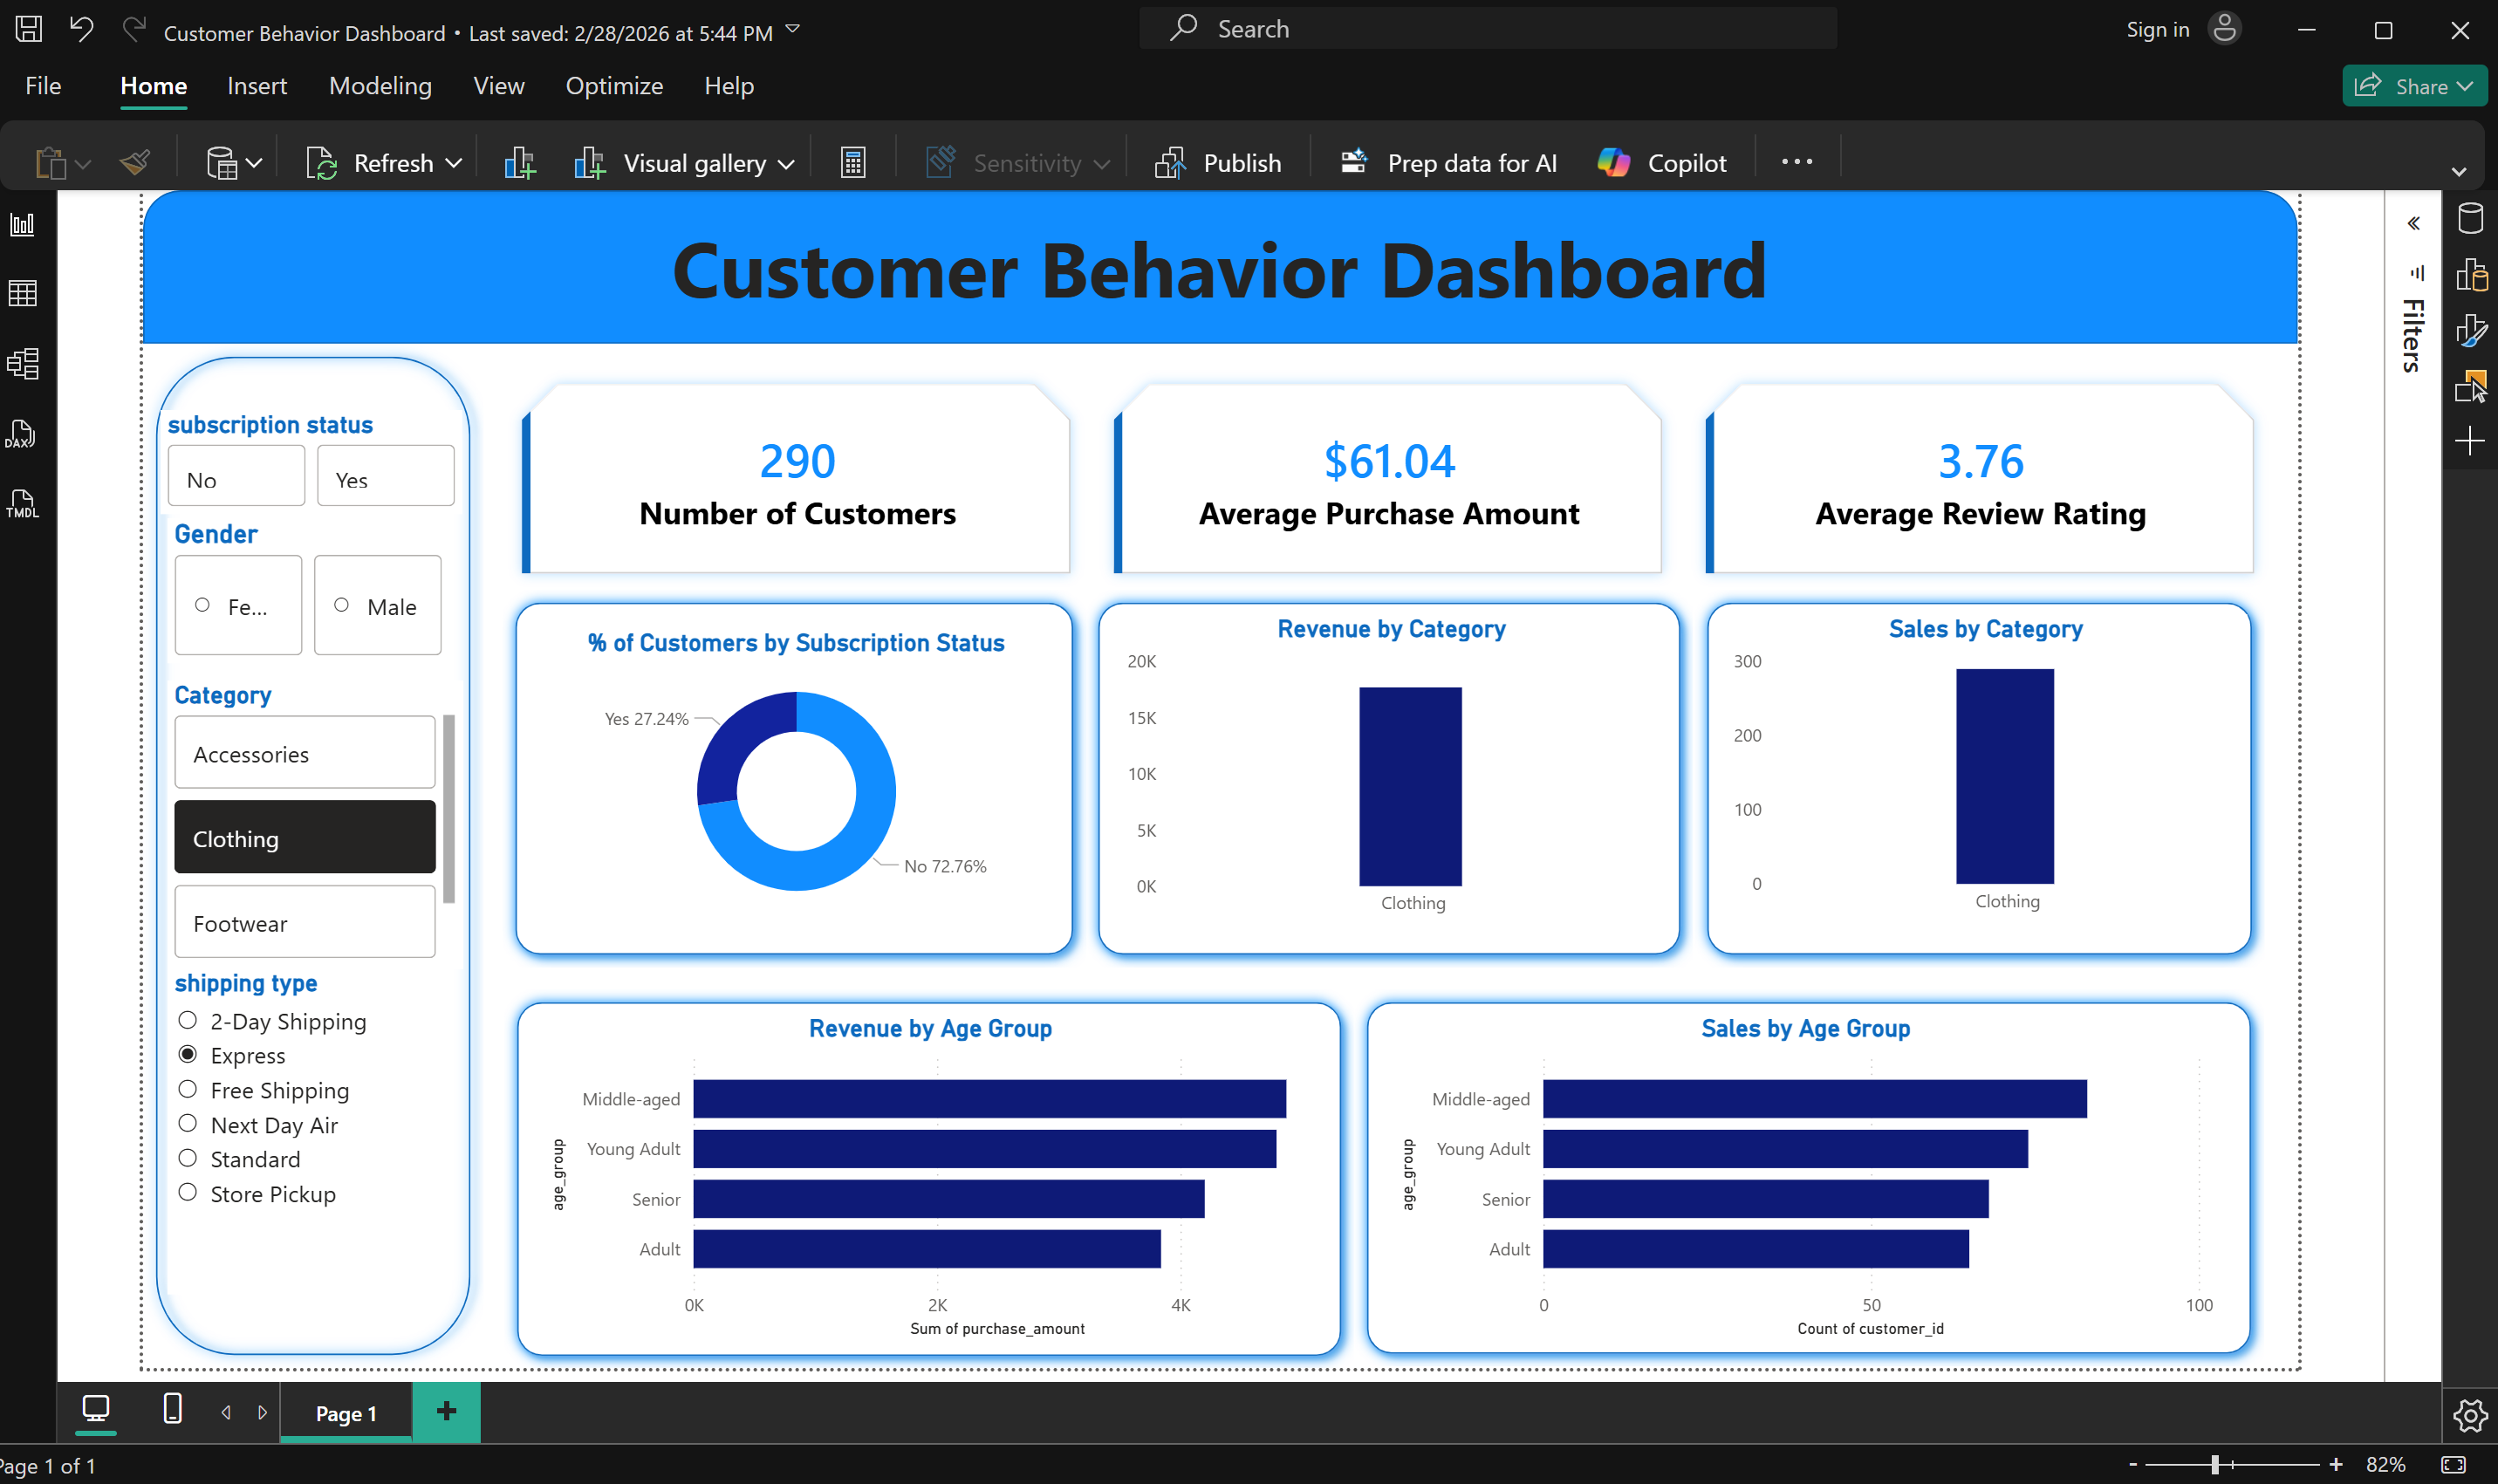

What the dashboard file says about the page in this screenshot:
{"tool":"powerbi","page":{"name":"Page 1","canvas":[1500,820],"ordinal":0},"visuals":[{"type":"cardVisual","fields":{"Data":["customer_data.Number of Customers","customer_data.Average Purchase Amount","customer_data.Average Review Rating"]},"box":[235.7,106.8,1264.3,188.8],"z":0},{"type":"shape","box":[0,0,1500,106.8],"z":1000},{"type":"textbox","box":[0,11.7,1500,85.9],"z":2000},{"type":"shape","box":[250,278.6,406.2,263],"z":3000},{"type":"donutChart","title":"% of Customers by Subscription Status","fields":{"Category":["customer_data.subscription_status"],"Y":["CountNonNull(customer_data.customer_id)"]},"box":[264.3,304.7,380.2,208.3],"z":4000},{"type":"shape","box":[656.2,278.6,423.2,263],"z":5000},{"type":"shape","box":[1079.4,278.6,397.1,263],"z":6000},{"type":"clusteredColumnChart","title":"Revenue by Category","fields":{"Y":["Sum(customer_data.purchase_amount)"],"Category":["customer_data.category"]},"box":[679.7,295.1,378.5,219.4],"z":7000},{"type":"clusteredColumnChart","title":"Sales by Category","fields":{"Category":["customer_data.category"],"Y":["CountNonNull(customer_data.customer_id)"]},"box":[1101.4,295.1,363,217.8],"z":8000},{"type":"shape","box":[0,106.9,236.9,713.1],"z":9000},{"type":"advancedSlicerVisual","title":"subscription status","fields":{"Values":["customer_data.subscription_status"]},"box":[12.4,152.9,210.1,72.6],"z":10000},{"type":"advancedSlicerVisual","title":"Gender","fields":{"Values":["customer_data.gender"]},"box":[17,228.4,196.8,100.8],"z":11000},{"type":"advancedSlicerVisual","title":"Category","fields":{"Values":["customer_data.category"]},"box":[17,341.4,205.5,200.8],"z":12000},{"type":"listSlicer","title":"shipping type","fields":{"Values":["customer_data.shipping_type"]},"box":[17,541.8,196.8,227.2],"z":13000},{"type":"shape","box":[251.8,556.1,591.7,264.2],"z":14000},{"type":"clusteredBarChart","title":"Revenue by Age Group","fields":{"Y":["Sum(customer_data.purchase_amount)"],"Category":["customer_data.age_group"]},"box":[278.1,573.1,540.7,230.2],"z":15000},{"type":"shape","box":[843.5,556.1,633.4,262.6],"z":16000},{"type":"clusteredBarChart","title":"Sales by Age Group","fields":{"Category":["customer_data.age_group"],"Y":["CountNonNull(customer_data.customer_id)"]},"box":[869.7,573.1,576.2,230.2],"z":17000}]}

Visuals, with their boxes on the page's 1500x820 design canvas (x1, y1, x2, y2). These are canvas units, not pixel positions in the 2498x1484 screenshot, which may show the page scaled, cropped or inside an application window:
cardVisual - customer_data.Number of Customers x customer_data.Average Purchase Amount: bbox(236, 107, 1500, 296)
shape: bbox(0, 0, 1500, 107)
textbox: bbox(0, 12, 1500, 98)
shape: bbox(250, 279, 656, 542)
"% of Customers by Subscription Status" donutChart: bbox(264, 305, 644, 513)
shape: bbox(656, 279, 1079, 542)
shape: bbox(1079, 279, 1476, 542)
"Revenue by Category" clusteredColumnChart: bbox(680, 295, 1058, 514)
"Sales by Category" clusteredColumnChart: bbox(1101, 295, 1464, 513)
shape: bbox(0, 107, 237, 820)
"subscription status" advancedSlicerVisual: bbox(12, 153, 222, 226)
"Gender" advancedSlicerVisual: bbox(17, 228, 214, 329)
"Category" advancedSlicerVisual: bbox(17, 341, 222, 542)
"shipping type" listSlicer: bbox(17, 542, 214, 769)
shape: bbox(252, 556, 844, 820)
"Revenue by Age Group" clusteredBarChart: bbox(278, 573, 819, 803)
shape: bbox(844, 556, 1477, 819)
"Sales by Age Group" clusteredBarChart: bbox(870, 573, 1446, 803)
